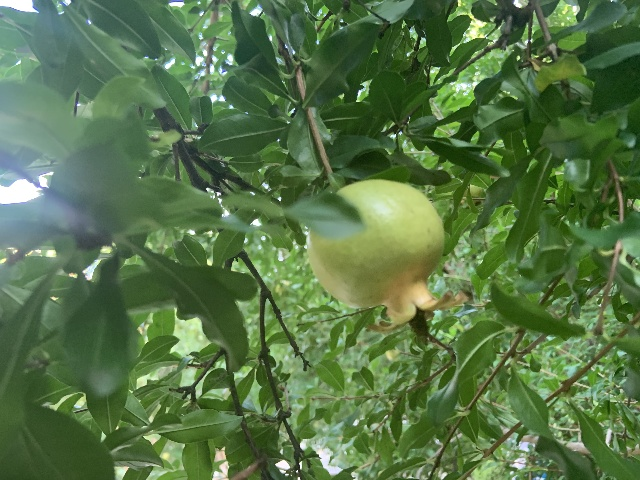mid-growth: (306, 178, 470, 332)
